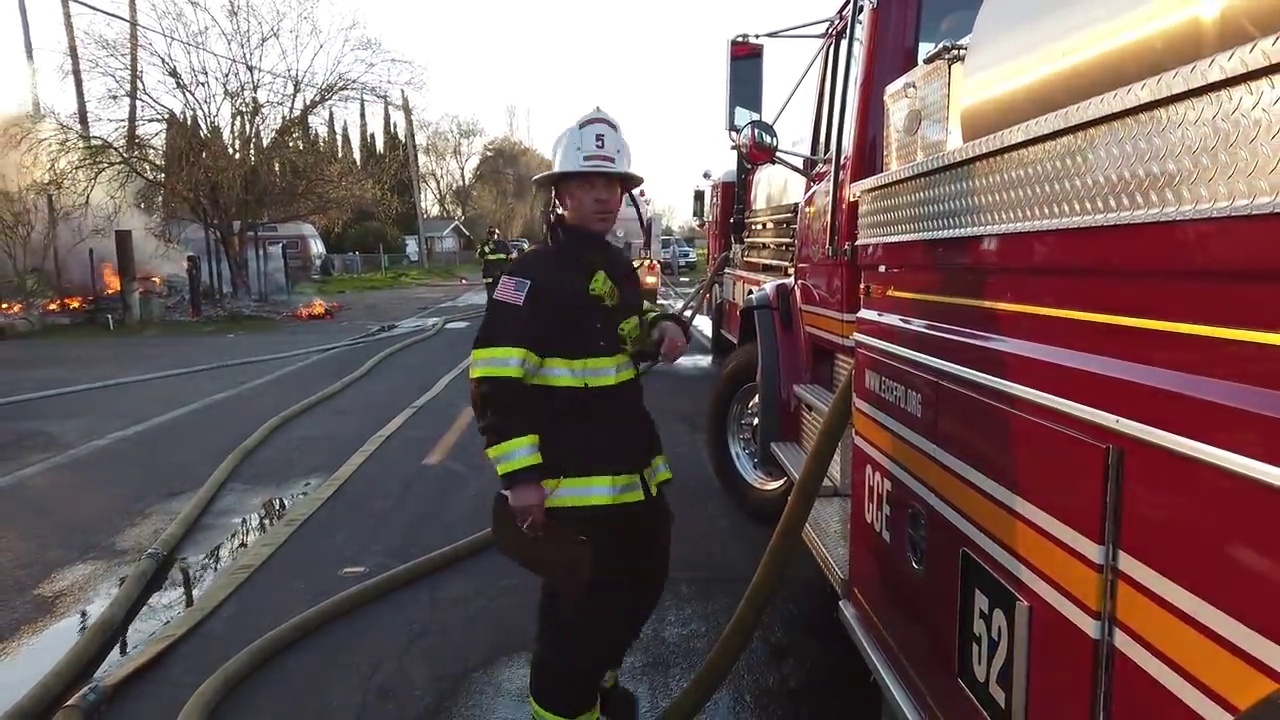fire: (294, 299, 331, 315), (101, 264, 122, 291), (44, 295, 87, 307), (1, 298, 21, 309)
smoke: (1, 118, 168, 263), (192, 231, 332, 293)
